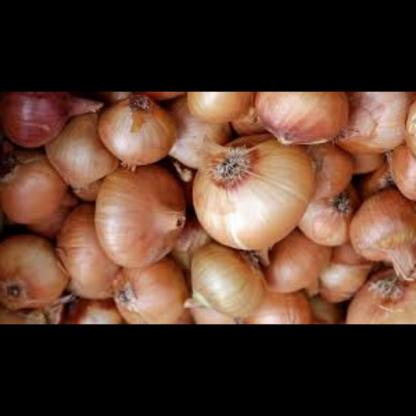onion: (1, 93, 415, 324)
